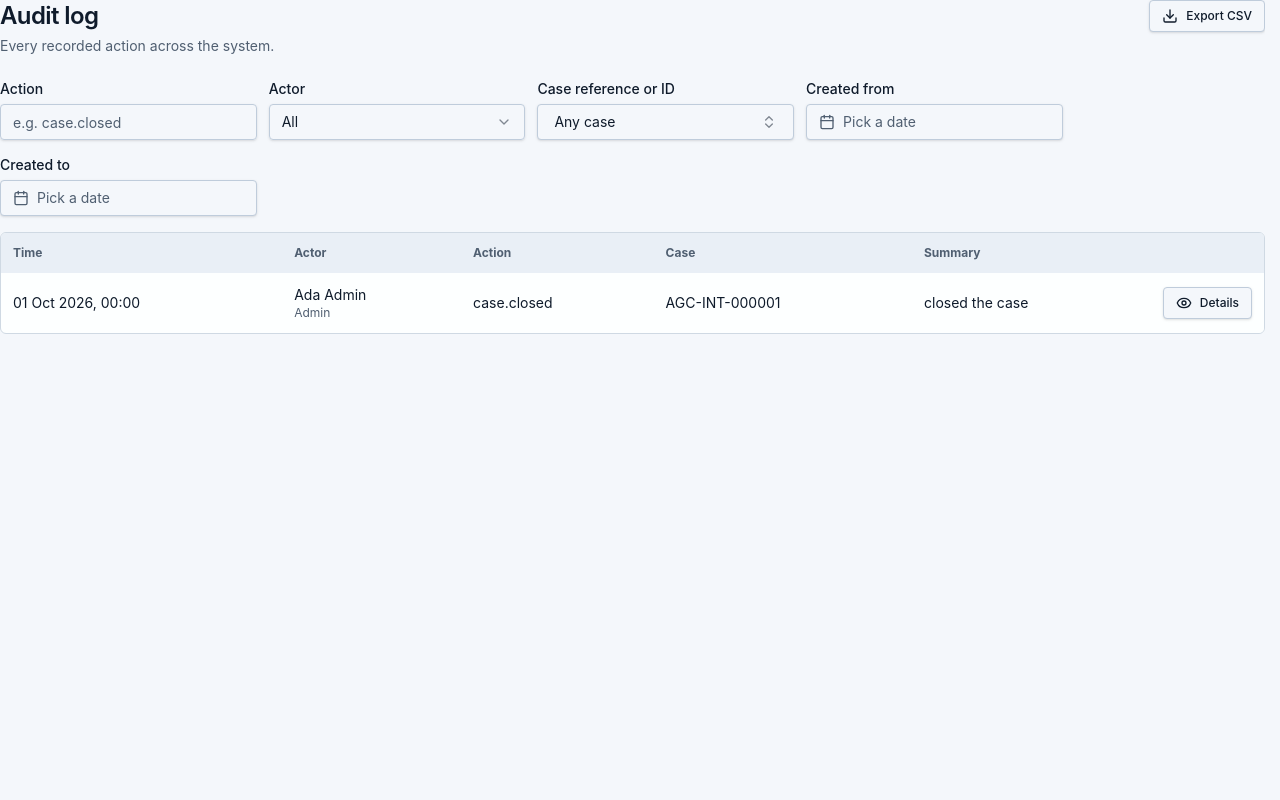
Test: AuditPage › the details drawer explains the change in plain words, with no raw data
This screenshot has width=1280, height=800.
Click the button "Details" at (1207, 303), box top-left (1163, 287), bottom-right (1252, 319)
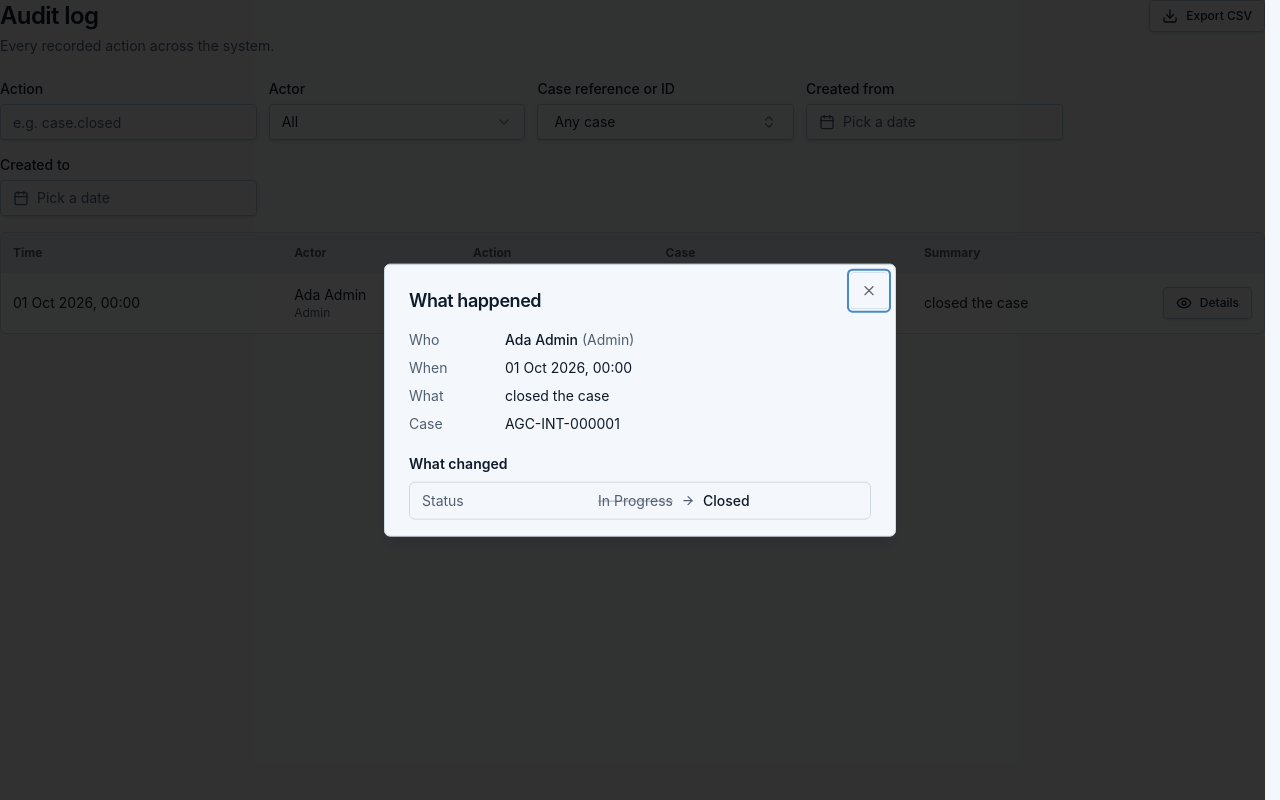
Now the list named "what changed" is shown, box top-left (409, 481), bottom-right (871, 519)
